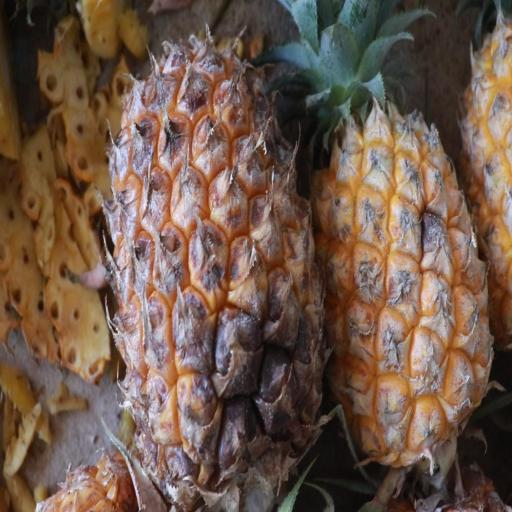Pineapple - v8 v1: (103, 25, 330, 512), (307, 8, 498, 487)
